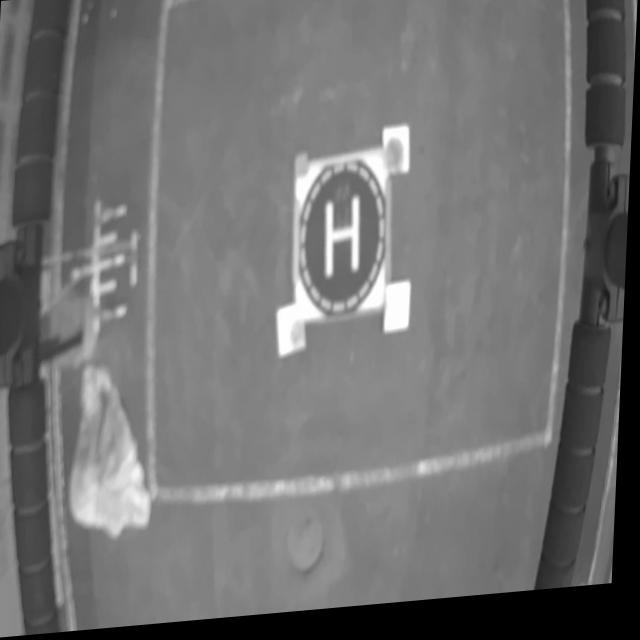Helipad: (327, 202, 363, 282)
